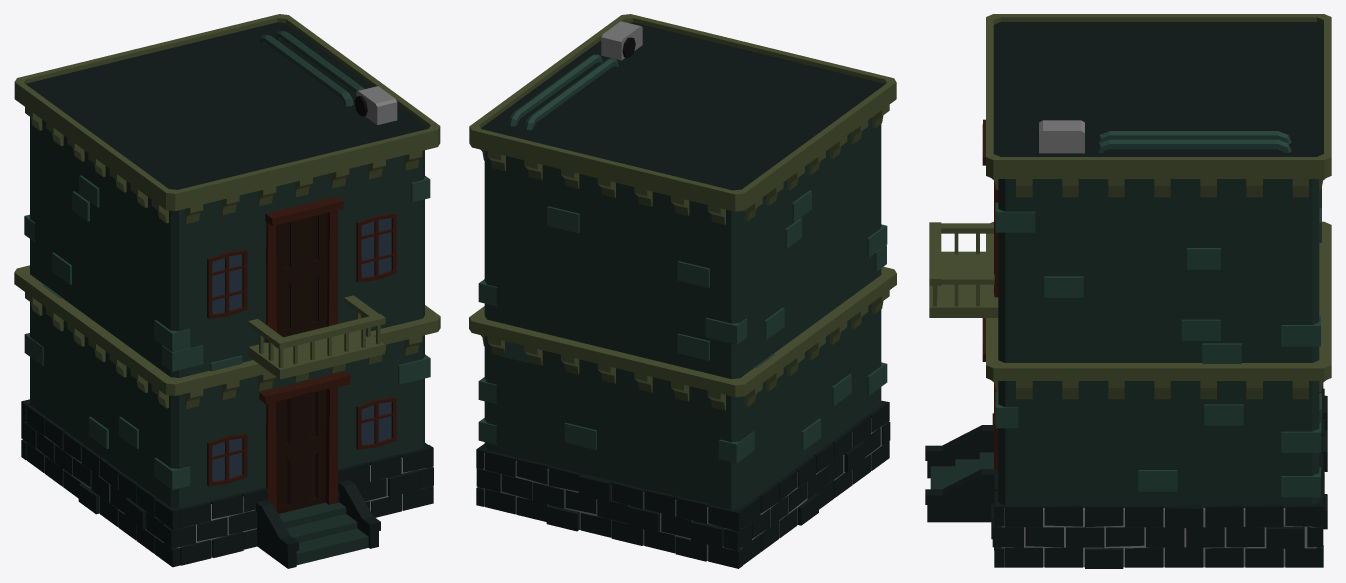
Rendered from 2Story_Balcony.obj.
3 renders of one model, left to right at view 1: azimuth 30°, elevation 25°; view 2: azimuth 150°, elevation 25°; view 3: azimuth 270°, elevation 25°, orthographic. The views are drawn at different scales.
Visible parts, largest first — view 1: 2Story_Balcony_Mat_Cube.028; view 2: 2Story_Balcony_Mat_Cube.028; view 3: 2Story_Balcony_Mat_Cube.028.
Boxes of the visible parts, x1=… form: 2Story_Balcony_Mat_Cube.028: x1=14, y1=14, x2=440, y2=568; 2Story_Balcony_Mat_Cube.028: x1=469, y1=14, x2=896, y2=568; 2Story_Balcony_Mat_Cube.028: x1=925, y1=14, x2=1331, y2=568.
Bounding box in the file's own units: 2.16 × 2.94 × 2.53.
